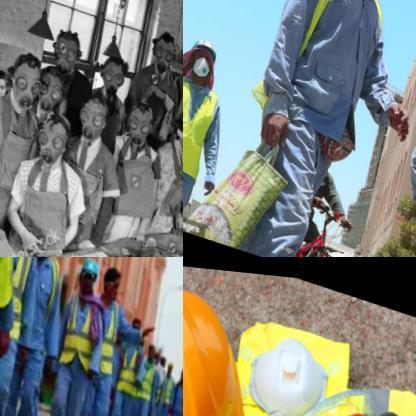vest: (183, 257, 415, 415), (243, 0, 404, 153), (52, 280, 107, 371), (12, 257, 67, 347), (183, 67, 224, 182), (0, 257, 42, 345), (90, 287, 128, 370), (110, 333, 147, 395), (133, 352, 157, 398)
